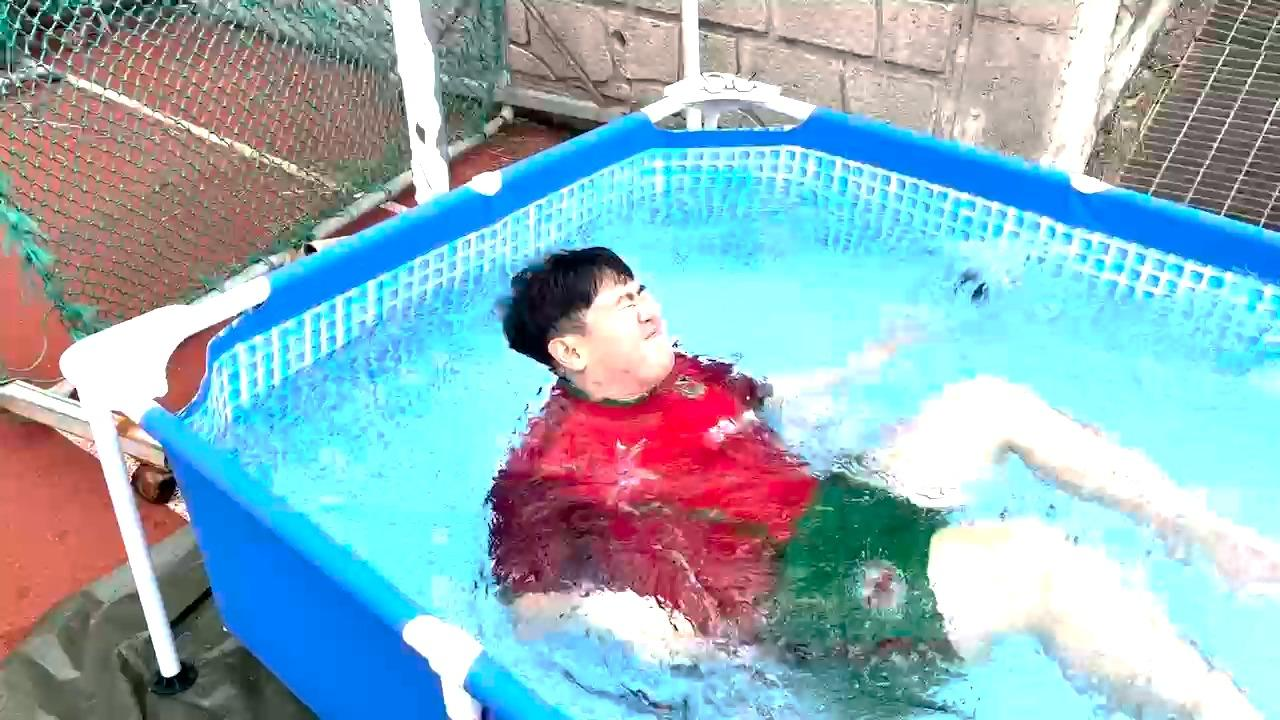Drowning: (407, 189, 1280, 720)
